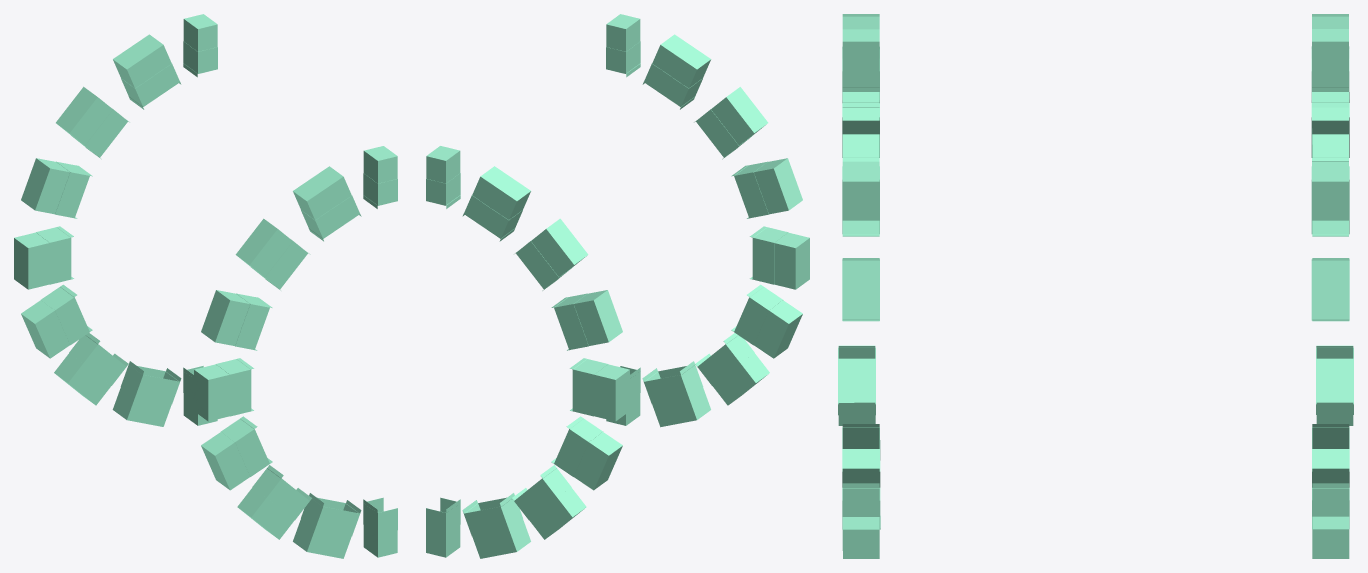
The model's file is Serv-Muon-Barrel-Calo-Ele-Boxes-cut2.glb.
3 renders of one model, left to right at view 1: azimuth 30°, elevation 25°; view 2: azimuth 150°, elevation 25°; view 3: azimuth 270°, elevation 25°, orthographic. The views are drawn at different scales.
Parts seen in each view (by area): view 1: Electrical Boxes Barrel cut2; view 2: Electrical Boxes Barrel cut2; view 3: Electrical Boxes Barrel cut2.
Part boxes in pixels (<box>): Electrical Boxes Barrel cut2: <box>14,14,397,558</box>; Electrical Boxes Barrel cut2: <box>426,14,809,558</box>; Electrical Boxes Barrel cut2: <box>838,14,1353,558</box>.
Size of the model in its own units: 3.79 by 7.58 by 6.85.
